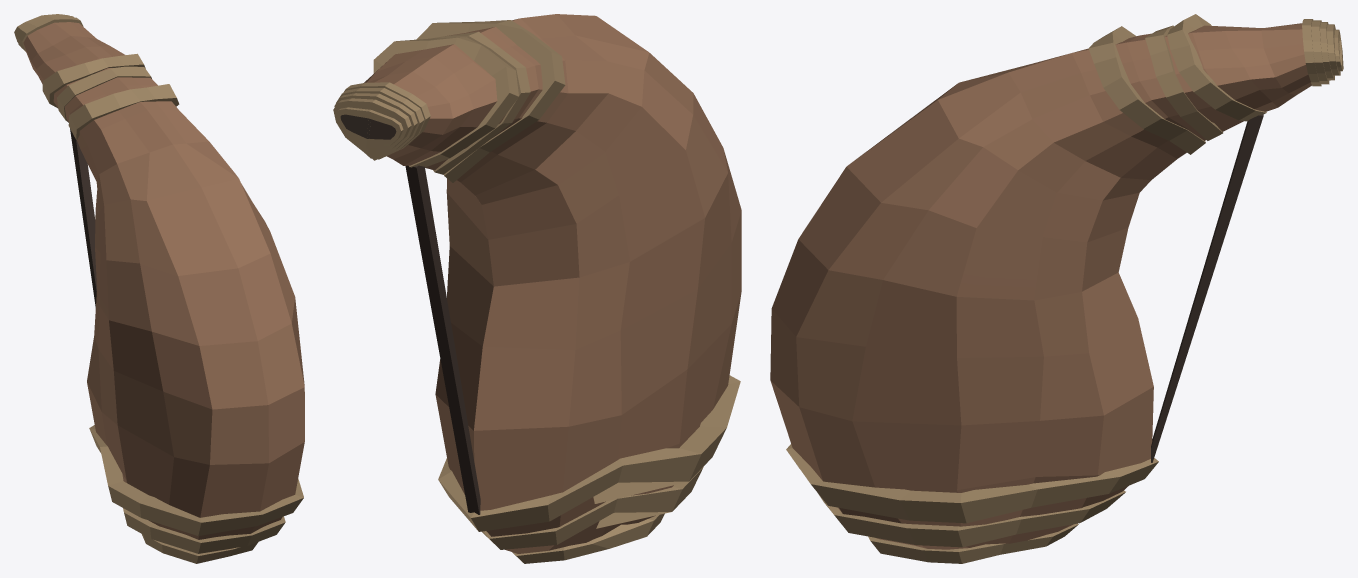
Rendered from Flask.fbx.
3 renders of one model, left to right at view 1: azimuth 30°, elevation 25°; view 2: azimuth 150°, elevation 25°; view 3: azimuth 270°, elevation 25°, orthographic. The views are drawn at different scales.
Visible parts, largest first — view 1: Flask; view 2: Flask; view 3: Flask.
Part boxes in pixels (<box>): Flask: <box>14,14,304,563</box>; Flask: <box>333,14,741,563</box>; Flask: <box>770,14,1343,563</box>.
Bounding box in the file's own units: 9.79 × 23 × 23.09.
